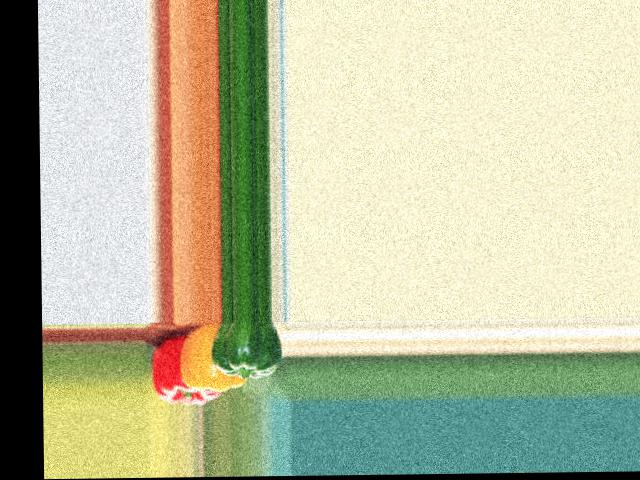bell_pepper: (152, 325, 220, 404)
